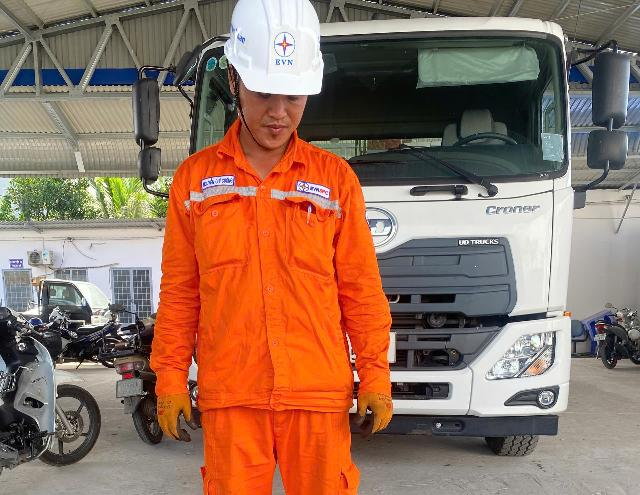gloves: (140, 375, 211, 458), (338, 374, 405, 434)
helmet: (191, 0, 362, 109)
